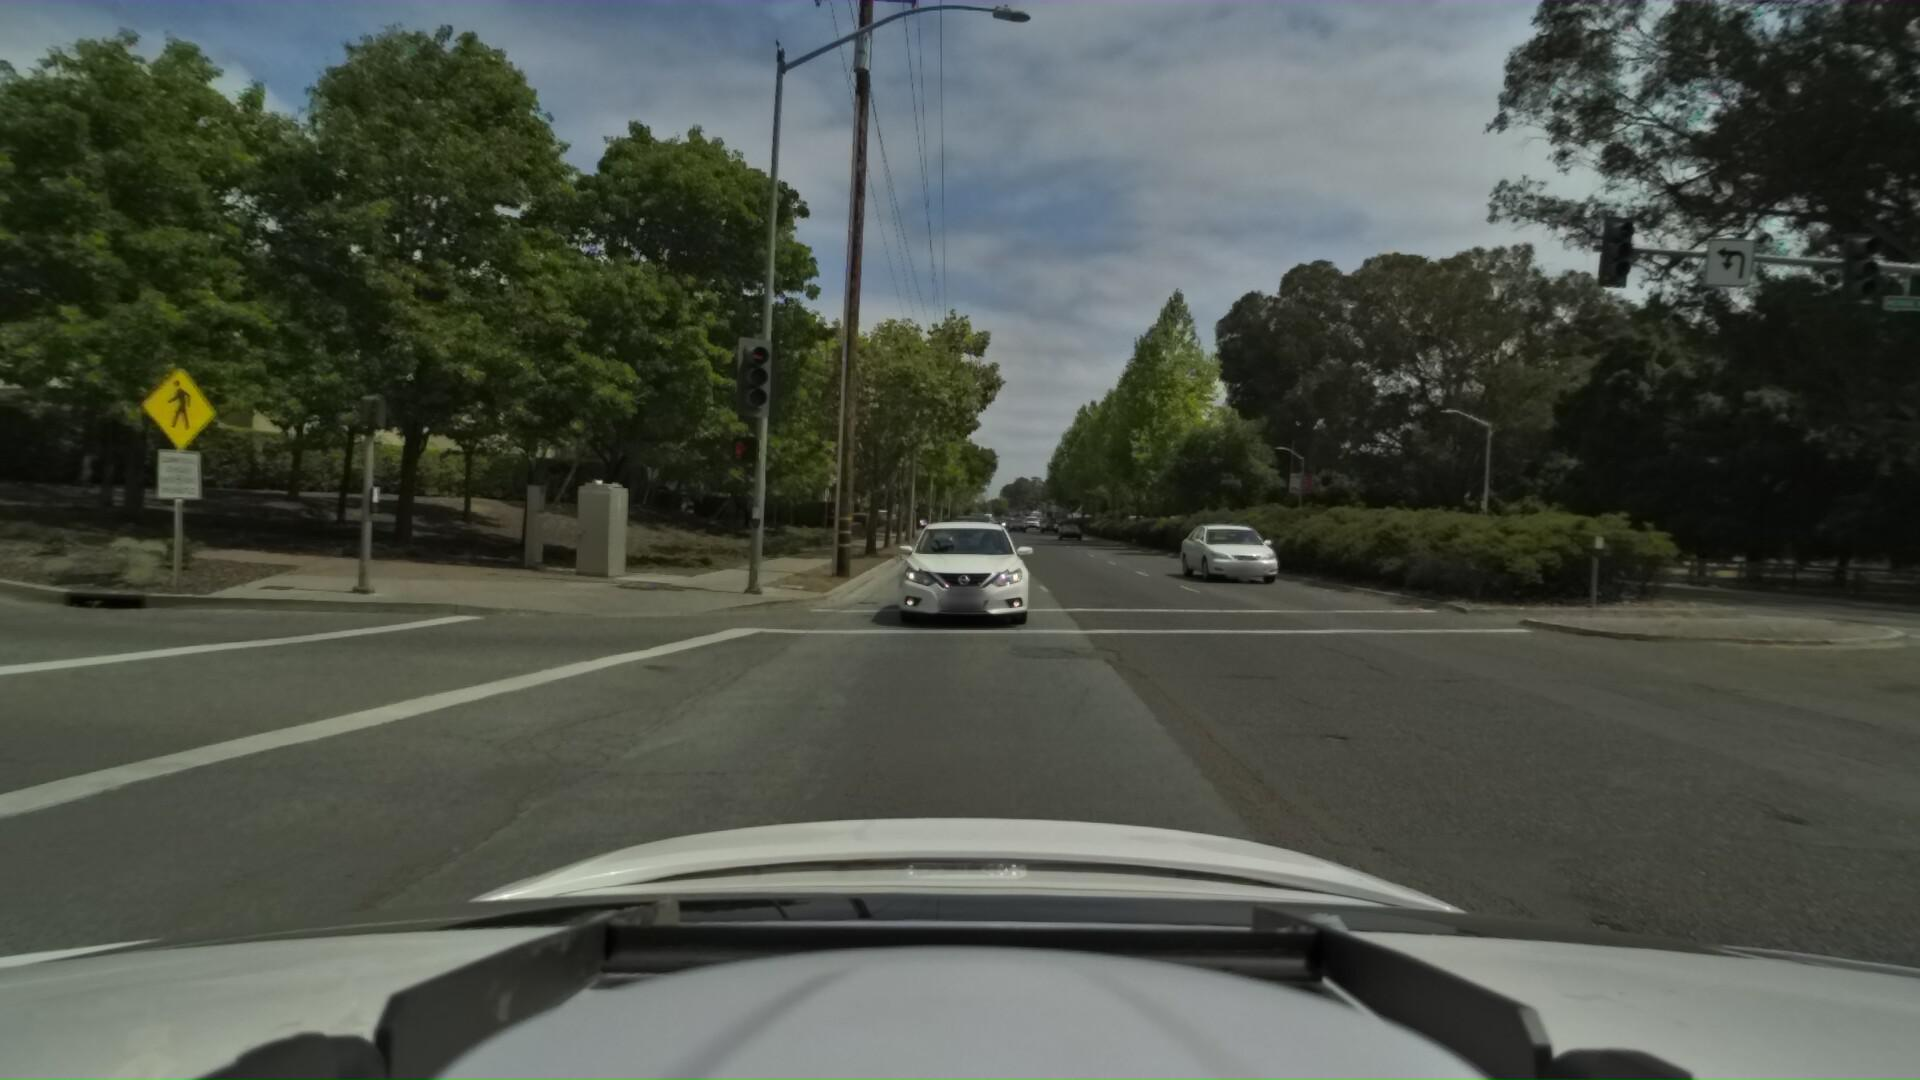car: (885, 512, 1038, 633), (1162, 495, 1275, 584), (934, 509, 990, 556), (1051, 513, 1084, 535)
